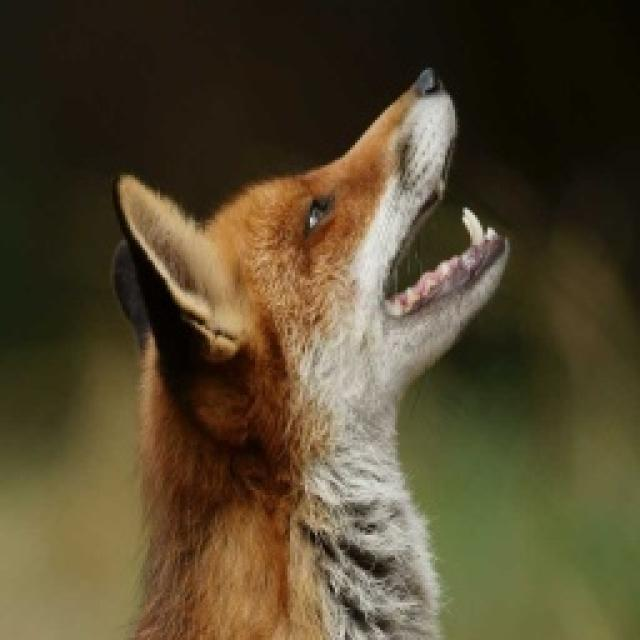Fox: (104, 61, 518, 640)
